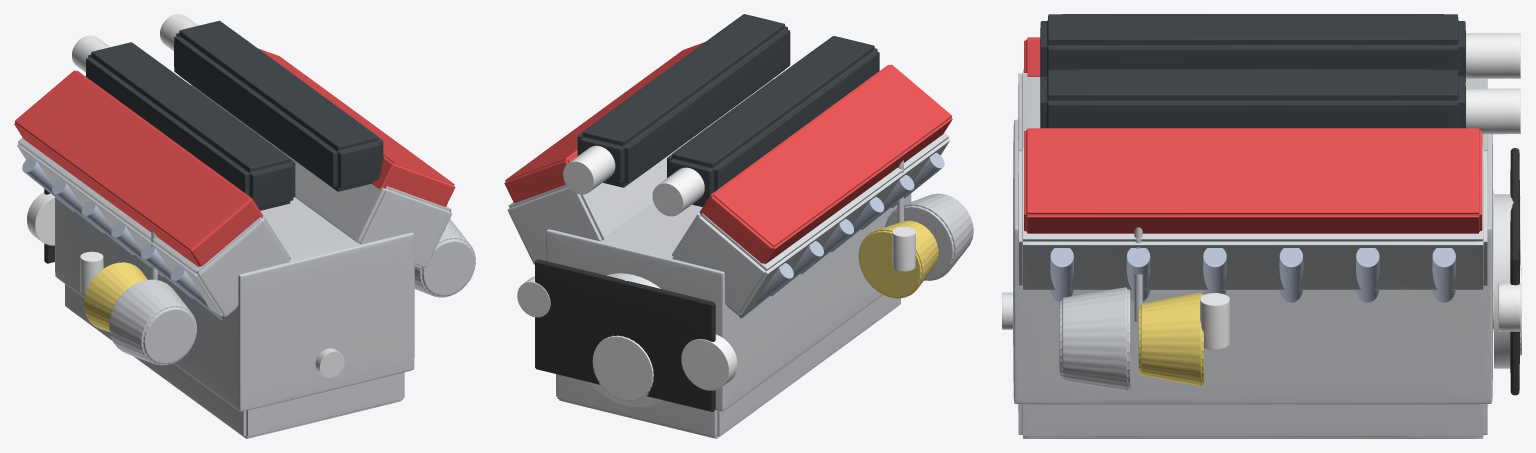
Rendered from v12_racing_engine_complete.glb.
3 renders of one model, left to right at view 1: azimuth 30°, elevation 25°; view 2: azimuth 150°, elevation 25°; view 3: azimuth 270°, elevation 25°, orthographic. The views are drawn at different scales.
Parts seen in each view (by area): view 1: Compressor_Housing_Left, Intake_Plenum_Carbon_Left, Valve_Cover_Left, Exhaust_Header_Runner_Left_1, Alternator_Drive_Pulley, Turbine_Housing_Left, Camshaft_Exhaust_Shaft_Left; view 2: Compressor_Housing_Left, Intake_Plenum_Carbon_Left, Valve_Cover_Left, Serpentine_Accessory_Belt, Alternator_Drive_Pulley, Turbine_Housing_Left, Exhaust_Header_Runner_Left_1, Camshaft_Exhaust_Shaft_Left; view 3: Compressor_Housing_Left, Valve_Cover_Left, Intake_Plenum_Carbon_Left, Alternator_Drive_Pulley, Exhaust_Header_Runner_Left_1, Turbine_Housing_Left, Camshaft_Exhaust_Shaft_Left, Serpentine_Accessory_Belt.
Boxes of the visible parts, left/top/right/bottom form: Compressor_Housing_Left: left=17, top=85, right=475, bottom=438; Intake_Plenum_Carbon_Left: left=86, top=20, right=383, bottom=210; Valve_Cover_Left: left=14, top=48, right=455, bottom=266; Exhaust_Header_Runner_Left_1: left=22, top=157, right=224, bottom=320; Alternator_Drive_Pulley: left=27, top=14, right=197, bottom=294; Turbine_Housing_Left: left=84, top=262, right=147, bottom=332; Camshaft_Exhaust_Shaft_Left: left=315, top=348, right=344, bottom=378; Compressor_Housing_Left: left=507, top=79, right=973, bottom=438; Intake_Plenum_Carbon_Left: left=577, top=14, right=879, bottom=206; Valve_Cover_Left: left=504, top=42, right=952, bottom=264; Serpentine_Accessory_Belt: left=535, top=259, right=715, bottom=411; Alternator_Drive_Pulley: left=517, top=145, right=915, bottom=401; Turbine_Housing_Left: left=858, top=220, right=938, bottom=298; Exhaust_Header_Runner_Left_1: left=738, top=152, right=944, bottom=318; Camshaft_Exhaust_Shaft_Left: left=588, top=273, right=663, bottom=407; Compressor_Housing_Left: left=1013, top=69, right=1493, bottom=438; Valve_Cover_Left: left=1024, top=37, right=1482, bottom=233; Intake_Plenum_Carbon_Left: left=1040, top=14, right=1465, bottom=128; Alternator_Drive_Pulley: left=1200, top=33, right=1521, bottom=355; Exhaust_Header_Runner_Left_1: left=1050, top=248, right=1455, bottom=302; Turbine_Housing_Left: left=1138, top=292, right=1203, bottom=386; Camshaft_Exhaust_Shaft_Left: left=1002, top=194, right=1513, bottom=368; Serpentine_Accessory_Belt: left=1510, top=148, right=1519, bottom=395.
Bounding box in the file's own units: 0.9513 × 0.6799 × 0.9525.
